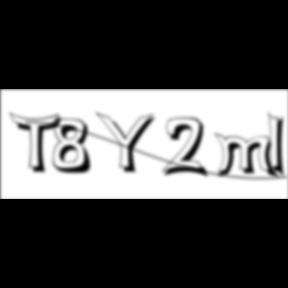2: (163, 117, 213, 181)
8: (53, 117, 98, 176)
T: (9, 112, 67, 176)
Y: (94, 110, 162, 176)
m: (214, 132, 282, 181)
